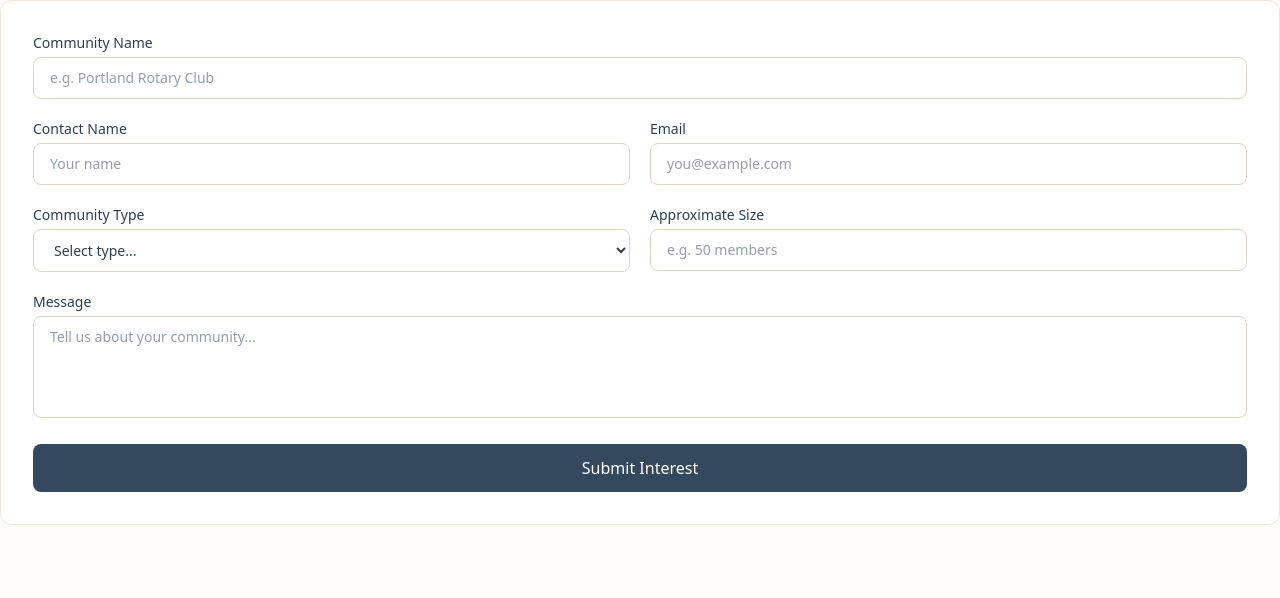
Scenario: PartnershipInterestForm › shows generic error on network failure
In the field labelled "Community Name": (640, 78) [33,57,1247,99], type "Test"
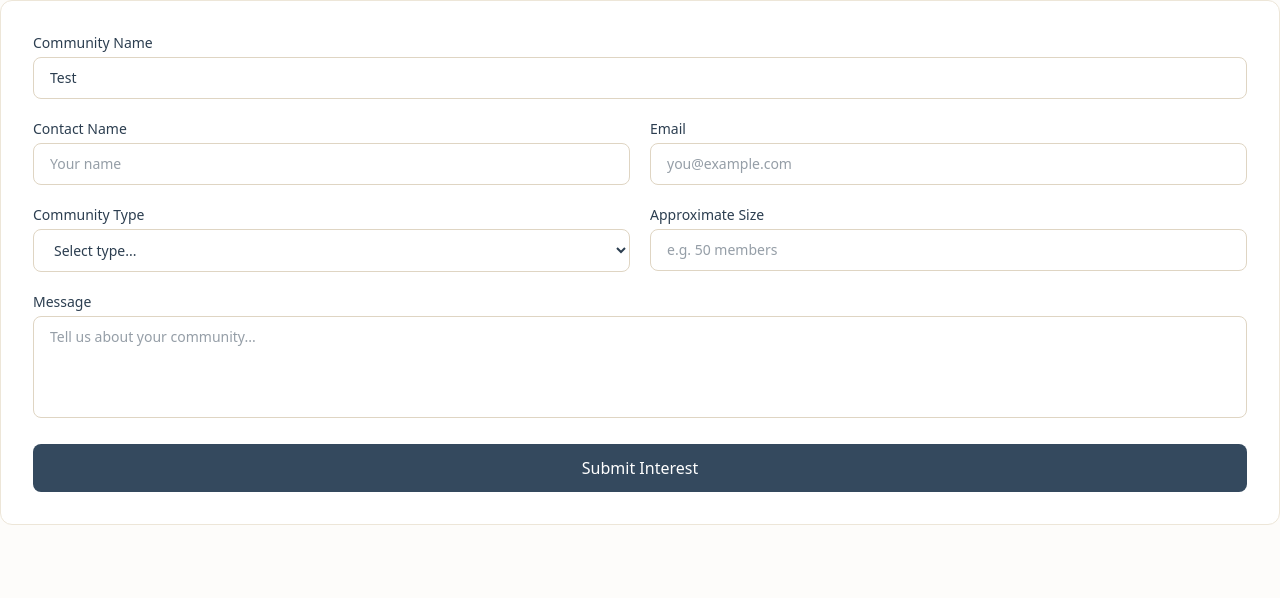
In the field labelled "Contact Name": (332, 164) [33,143,630,185], type "John"
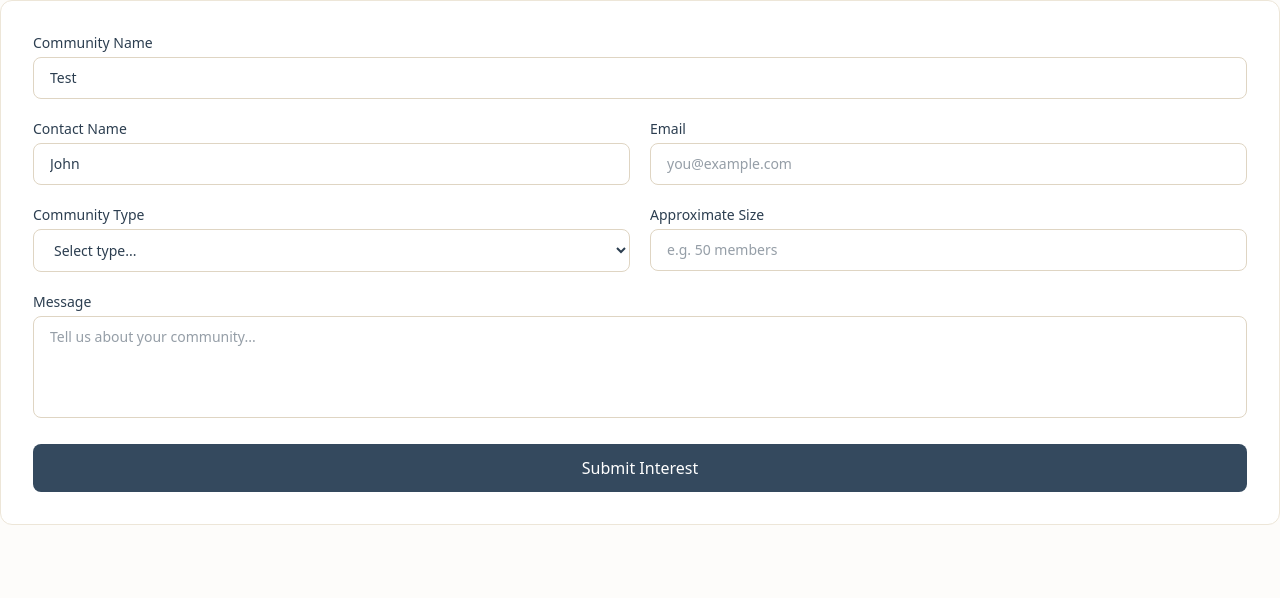
In the field labelled "Email": (948, 164) [650,143,1247,185], type "john@test.com"
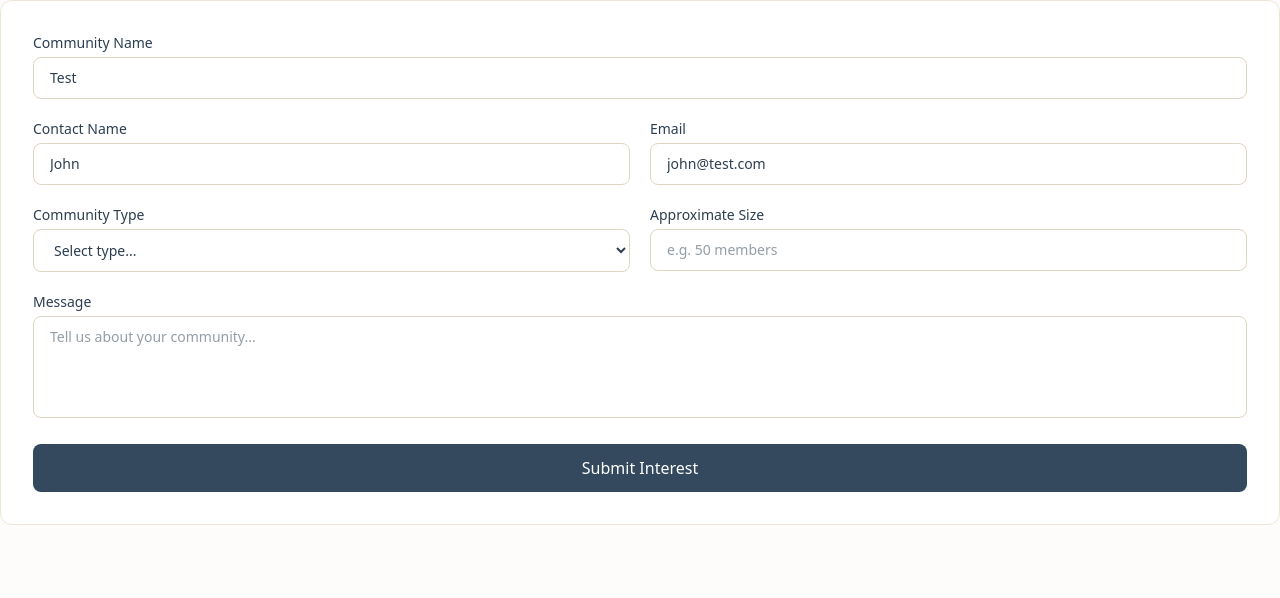
Select "Rotary Club" in the dropdown labelled "Community Type": (332, 250) [33,229,630,272]
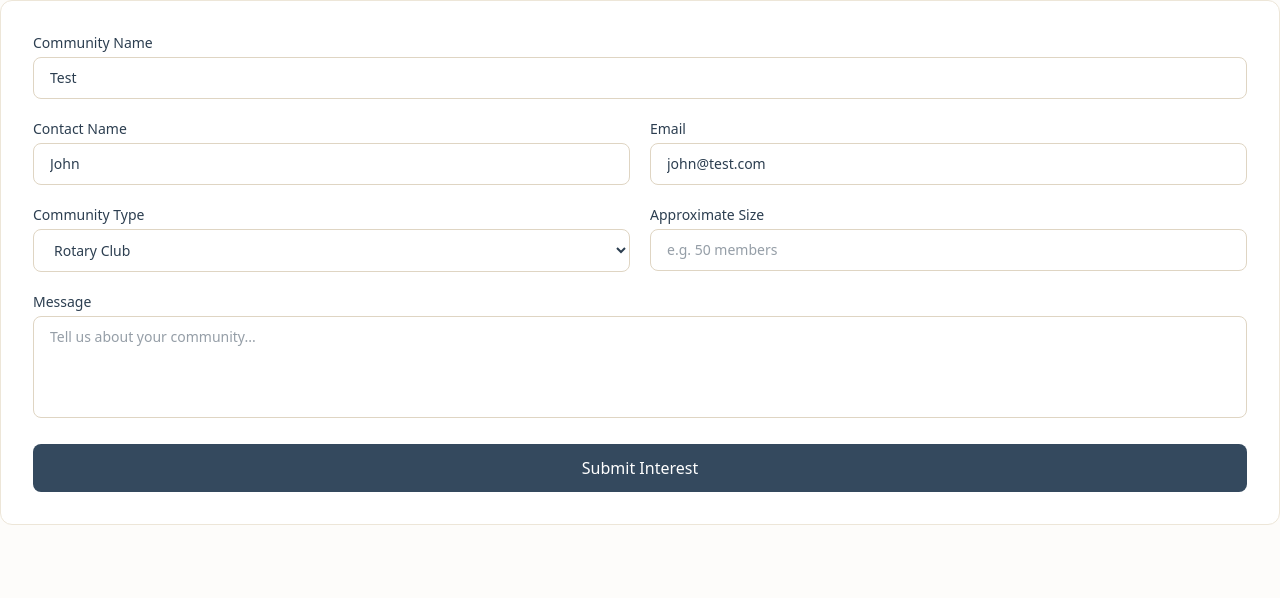
Click the button "Submit Interest": (640, 468) [33,444,1247,492]
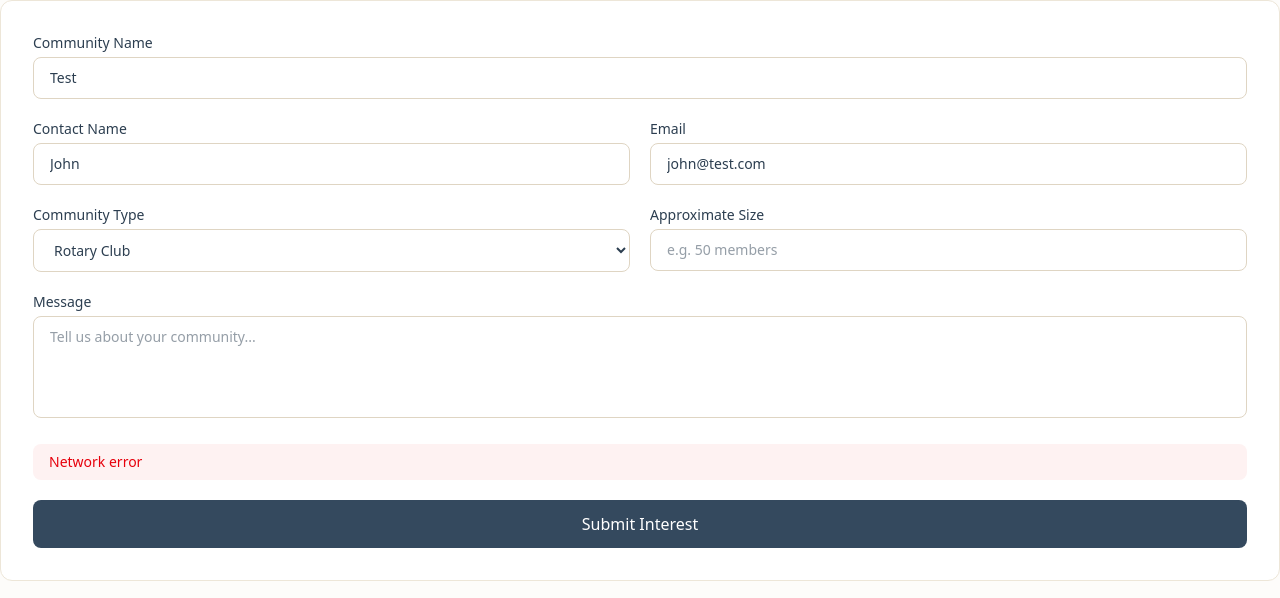
Expected: the text "Network error" is shown, [33,444,1247,480]
